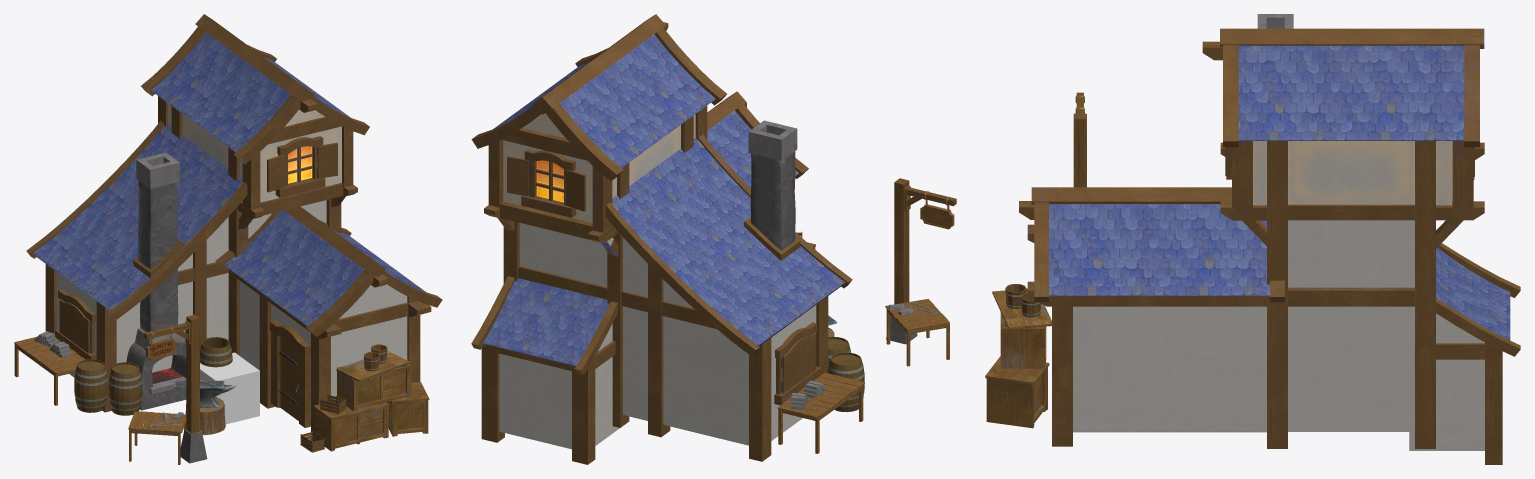
Rendered from Blacksmithnumba4.glb.
The picture shows the model from 3 angles, left to right: view 1: azimuth 30°, elevation 25°; view 2: azimuth 150°, elevation 25°; view 3: azimuth 270°, elevation 25°; orthographic projection. The views are drawn at different scales.
Visible parts, largest first — view 1: Cube.396; view 2: Cube.396; view 3: Cube.396.
Boxes of the visible parts, x1,y1,x2,y2 form: Cube.396: (14, 14, 442, 464); Cube.396: (471, 14, 956, 464); Cube.396: (985, 14, 1520, 464).
Size of the model in its own units: 13.2 by 13.8 by 16.49.
5 materials, 4 textured.
